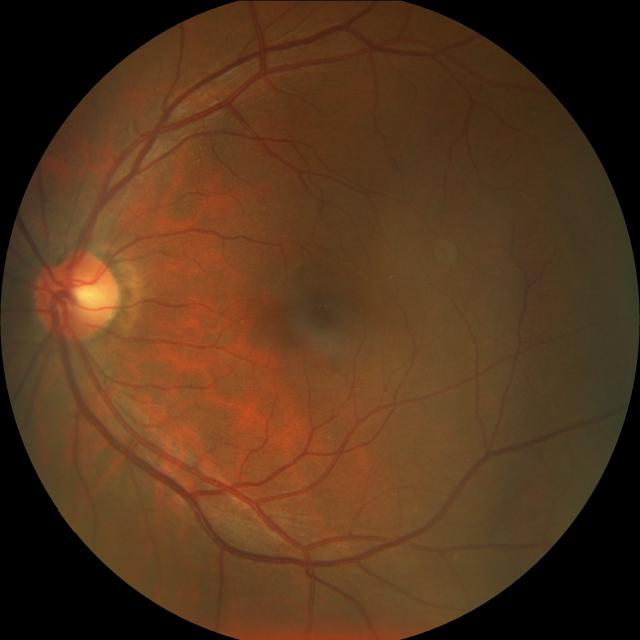OC: (55, 268, 103, 322)
OD: (33, 248, 123, 344)
